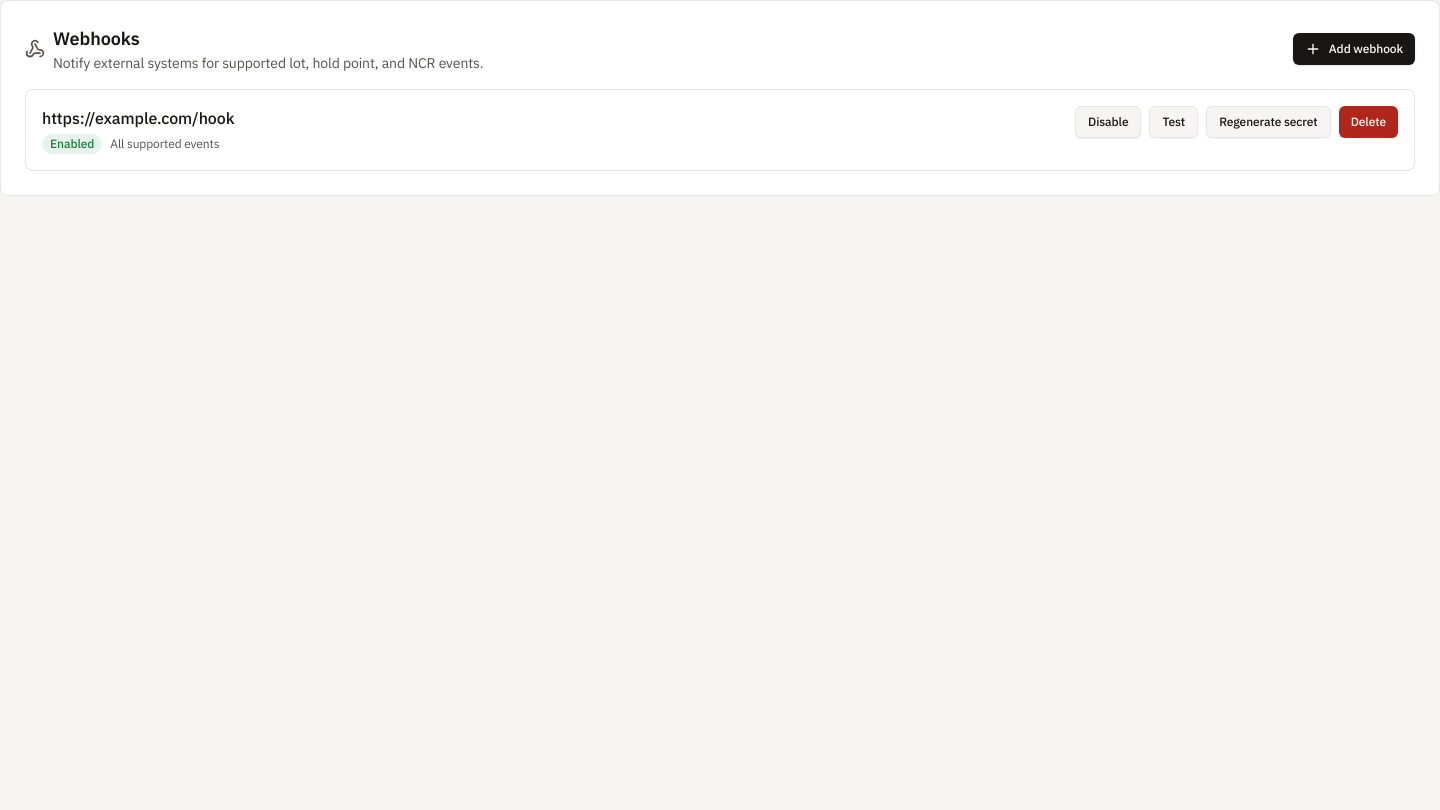
Test: CompanyWebhooksSection › requires confirmation before deleting a webhook
Expected: the text "https://example.com/hook" is shown, [42,108,234,128]
What coordinates should you click on to do the following:
click the button "Delete"
I would click on:
 (1368, 122)
Its box is [1339,106,1398,138].
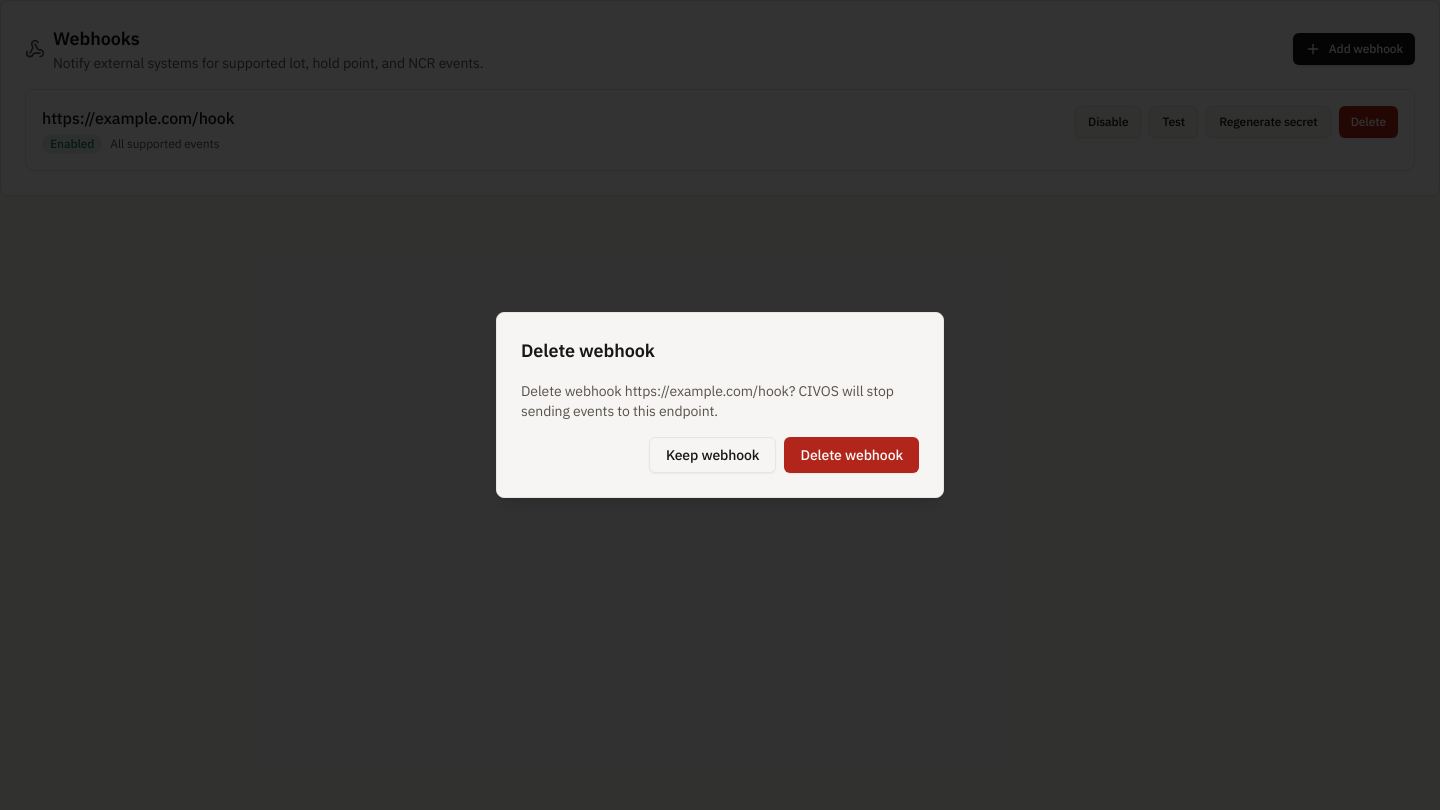
Now the text "https://example.com/hook" is shown, box [625,382,789,400]
What coordinates should you click on to do the following:
click the button "Keep webhook"
I would click on:
 (713, 455)
Its box is [649,437,776,473].
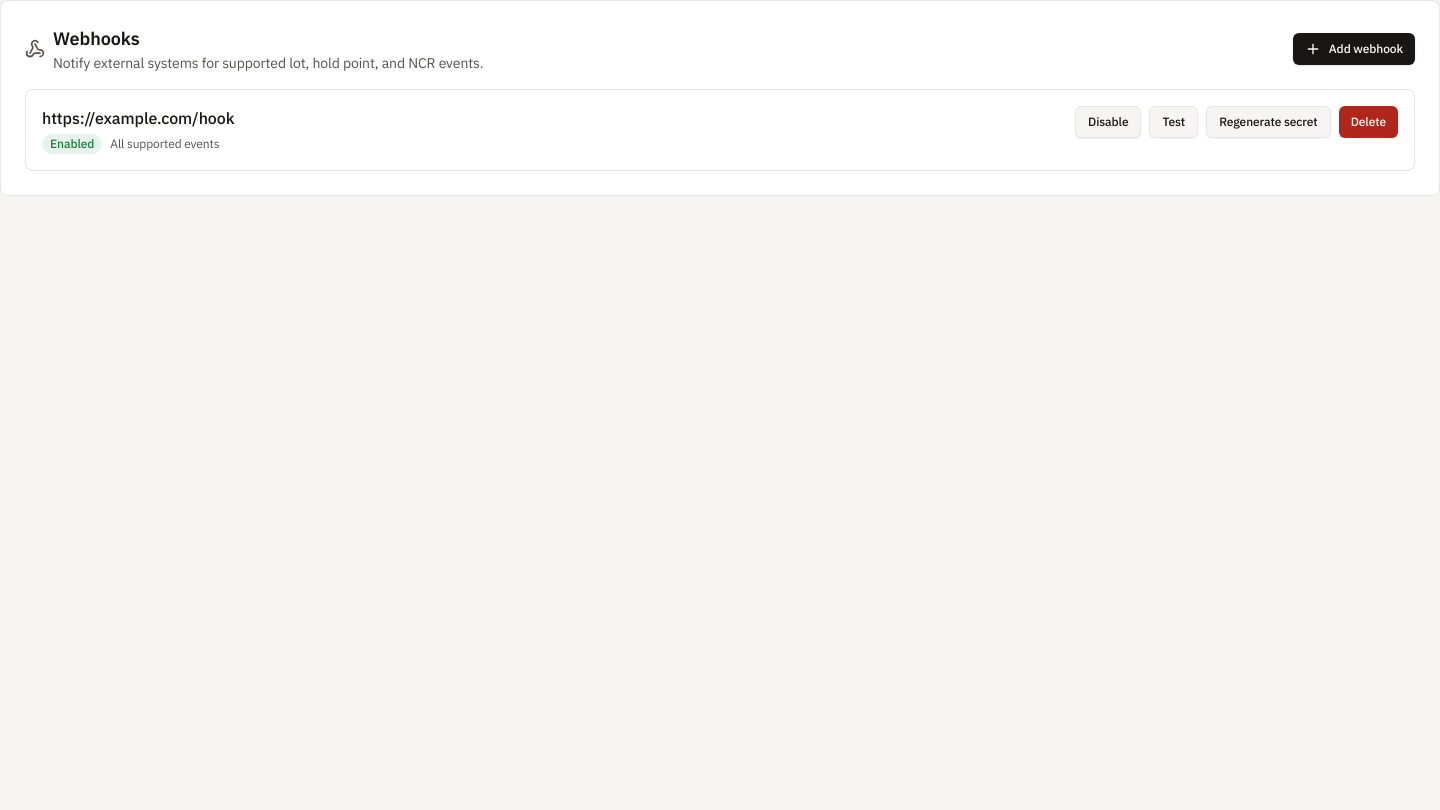
Now the heading "Delete webhook" is gone
What coordinates should you click on to do the following:
click the button "Delete"
I would click on:
 (1368, 122)
Its box is [1339,106,1398,138].
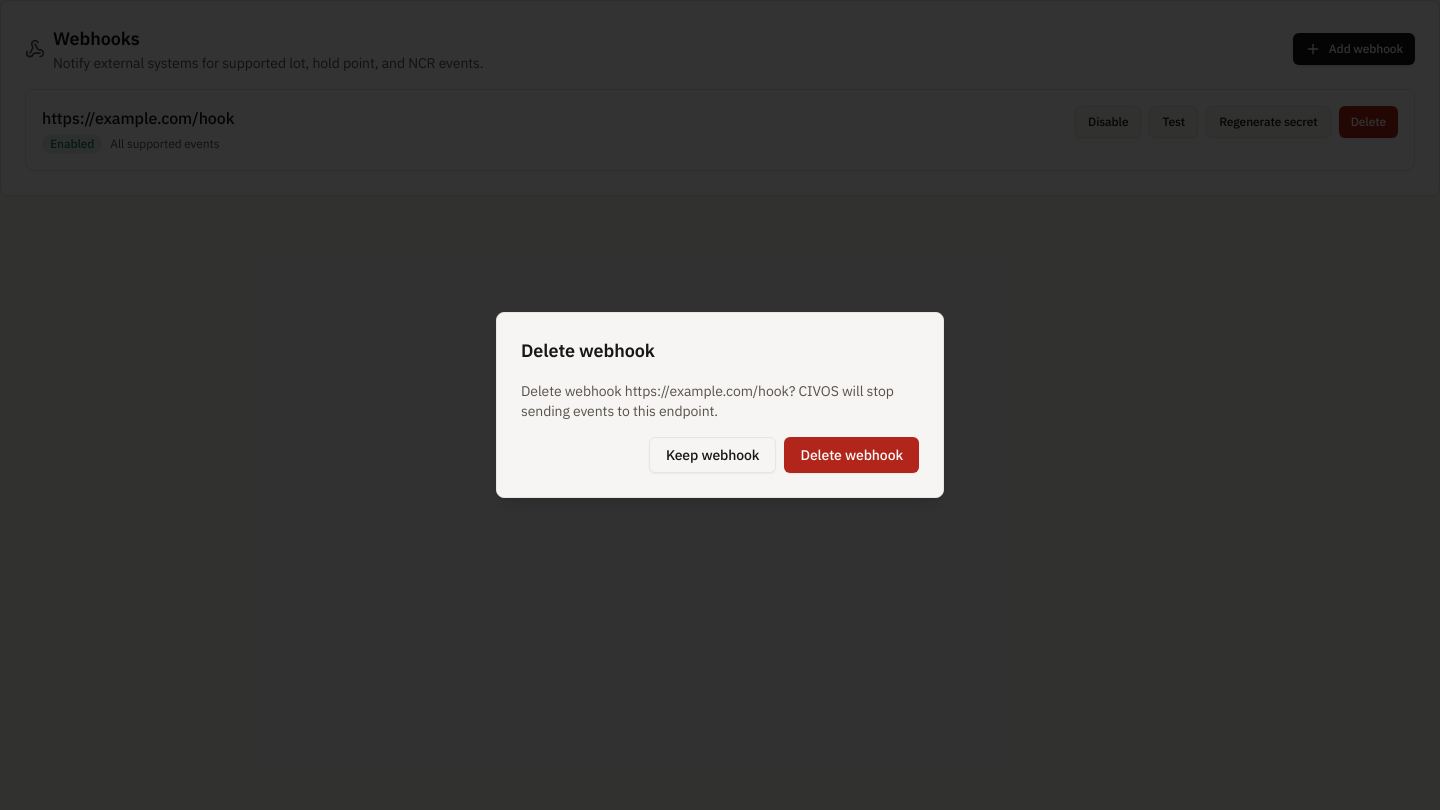
What coordinates should you click on to do the following:
click the button "Delete webhook"
I would click on:
 (852, 455)
Its box is [784,437,919,473].
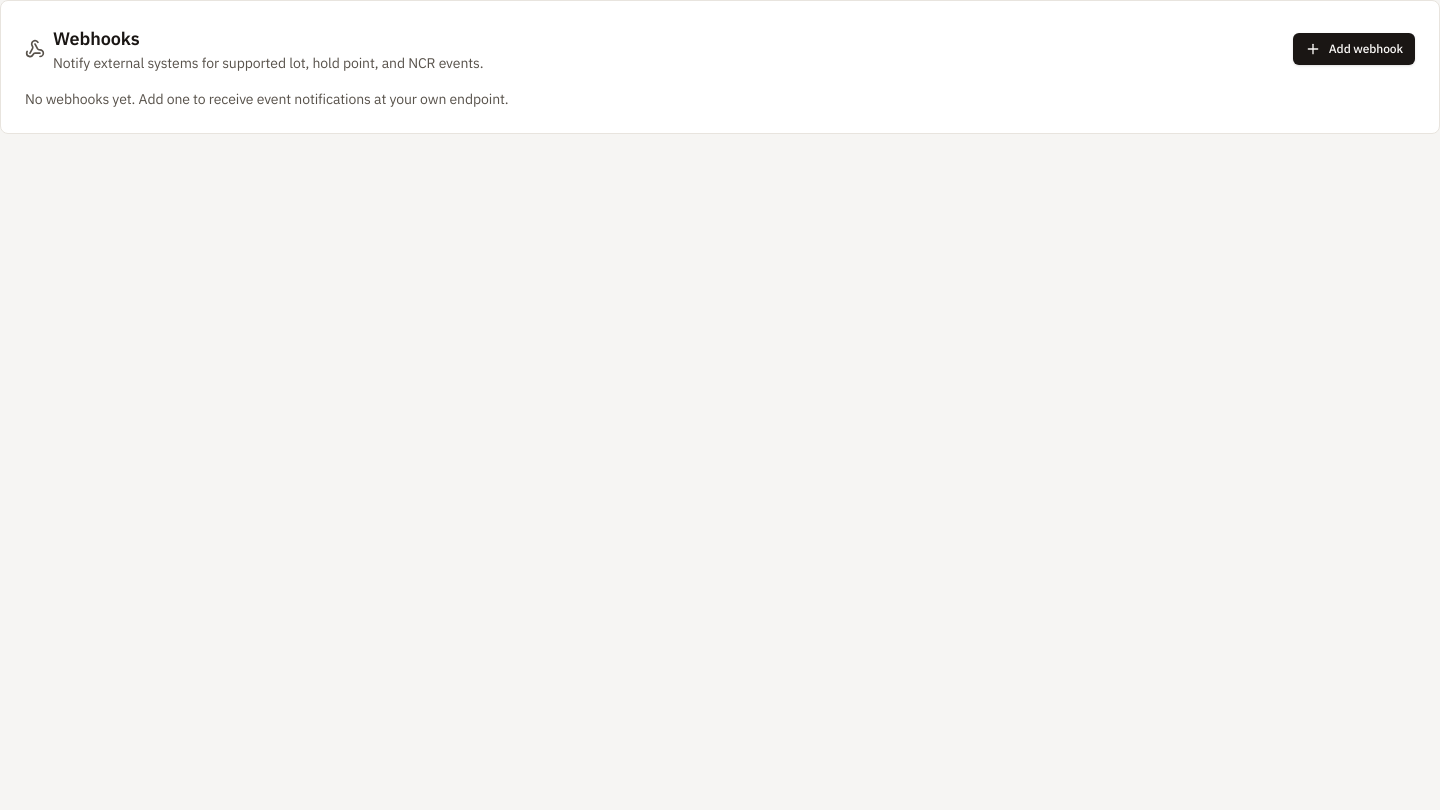
Now the text "https://example.com/hook" is gone
